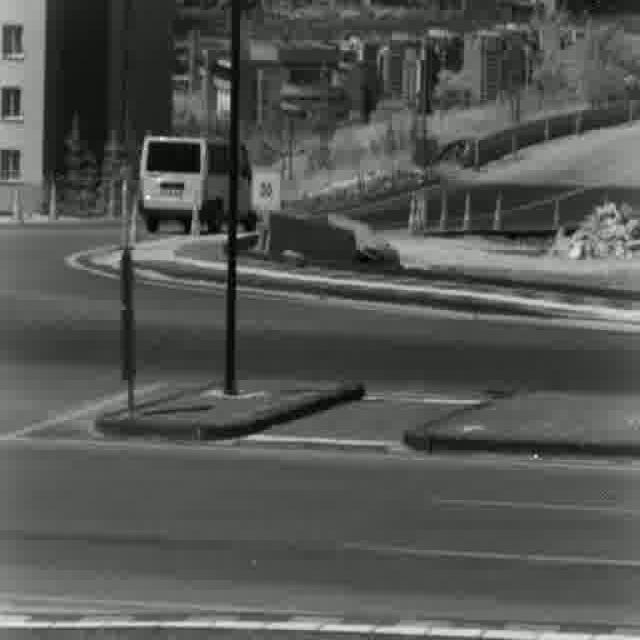Car: (136, 136, 250, 232)
